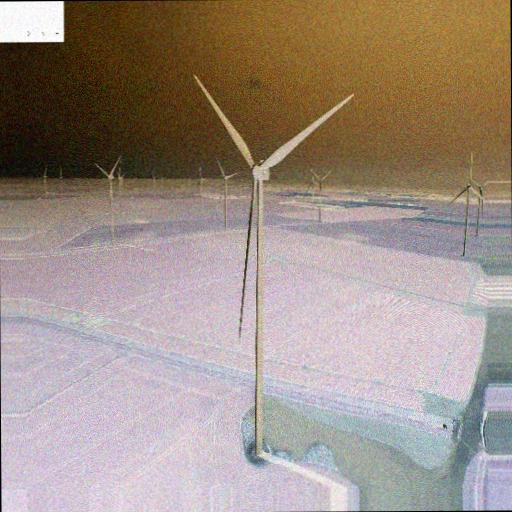wind turbine: (190, 74, 355, 452), (446, 152, 484, 263), (93, 155, 121, 240), (214, 160, 241, 232), (310, 166, 336, 222)
